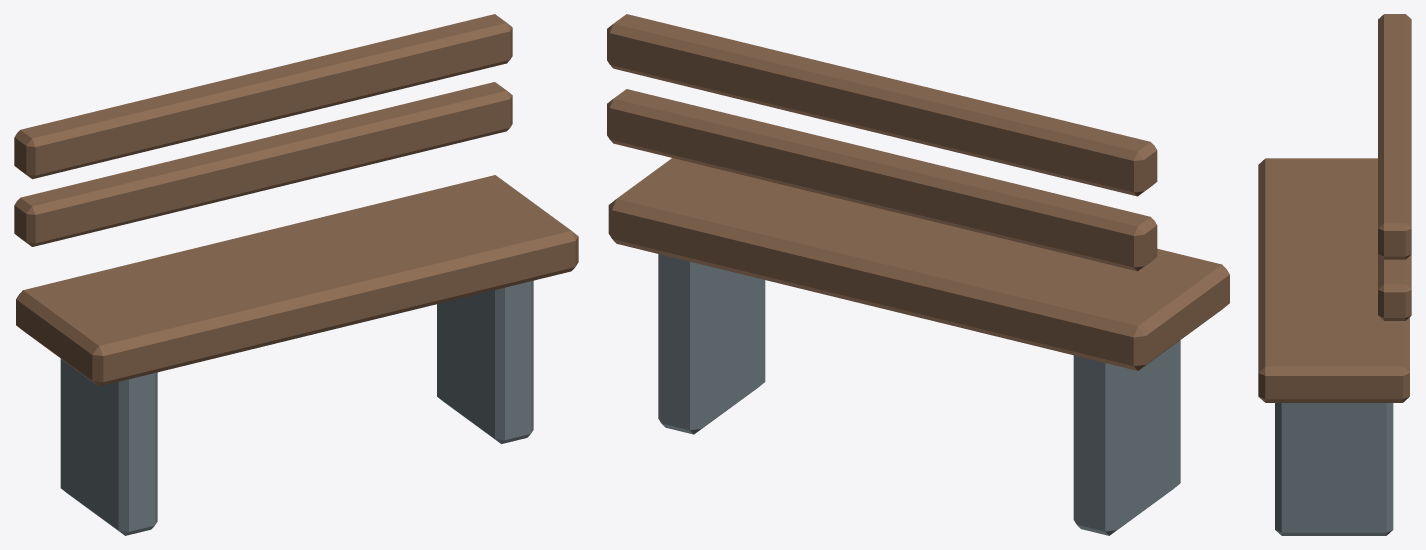
The model's file is street_007_seed100.glb.
3 renders of one model, left to right at view 1: azimuth 30°, elevation 25°; view 2: azimuth 150°, elevation 25°; view 3: azimuth 270°, elevation 25°, orthographic. The views are drawn at different scales.
Visible parts, largest first — view 1: street_007_seed100; view 2: street_007_seed100; view 3: street_007_seed100.
Boxes of the visible parts, left/top/right/bottom form: street_007_seed100: left=14, top=14, right=578, bottom=535; street_007_seed100: left=607, top=14, right=1229, bottom=535; street_007_seed100: left=1258, top=14, right=1411, bottom=535.
Size of the model in its own units: 1.5 by 1.07 by 0.455.
